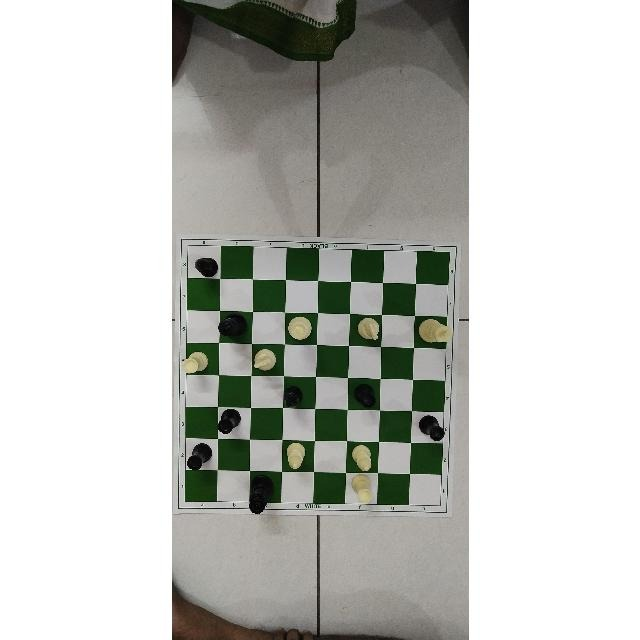black-bishop: (192, 257, 217, 277), (283, 385, 303, 408)
black-king: (217, 312, 247, 337)
black-queen: (246, 474, 273, 514)
black-rook: (186, 442, 212, 471), (418, 415, 444, 441), (215, 409, 240, 435), (353, 383, 378, 409)
white-bishop: (350, 444, 371, 471), (285, 442, 305, 469)
white-king: (417, 319, 451, 343)
white-knight: (357, 318, 379, 342), (253, 349, 275, 370)
white-queen: (286, 316, 311, 340)
white-rook: (350, 474, 371, 504), (182, 350, 208, 373)
